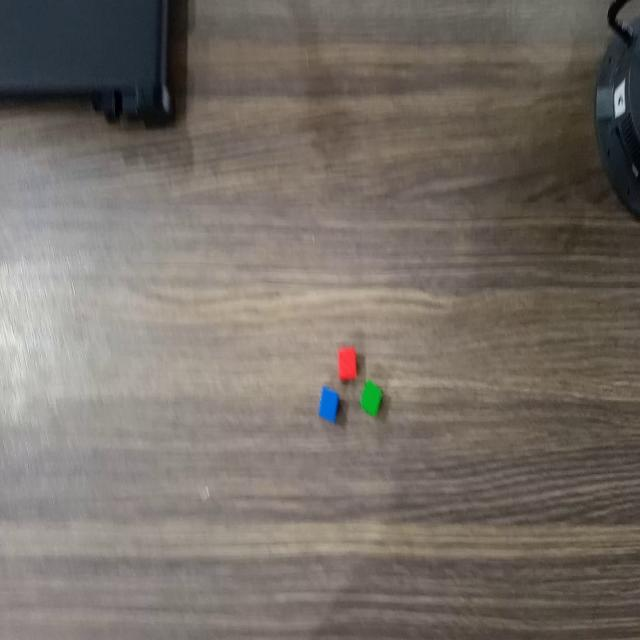cube: (359, 375, 385, 420), (334, 342, 360, 384), (317, 380, 341, 425)
